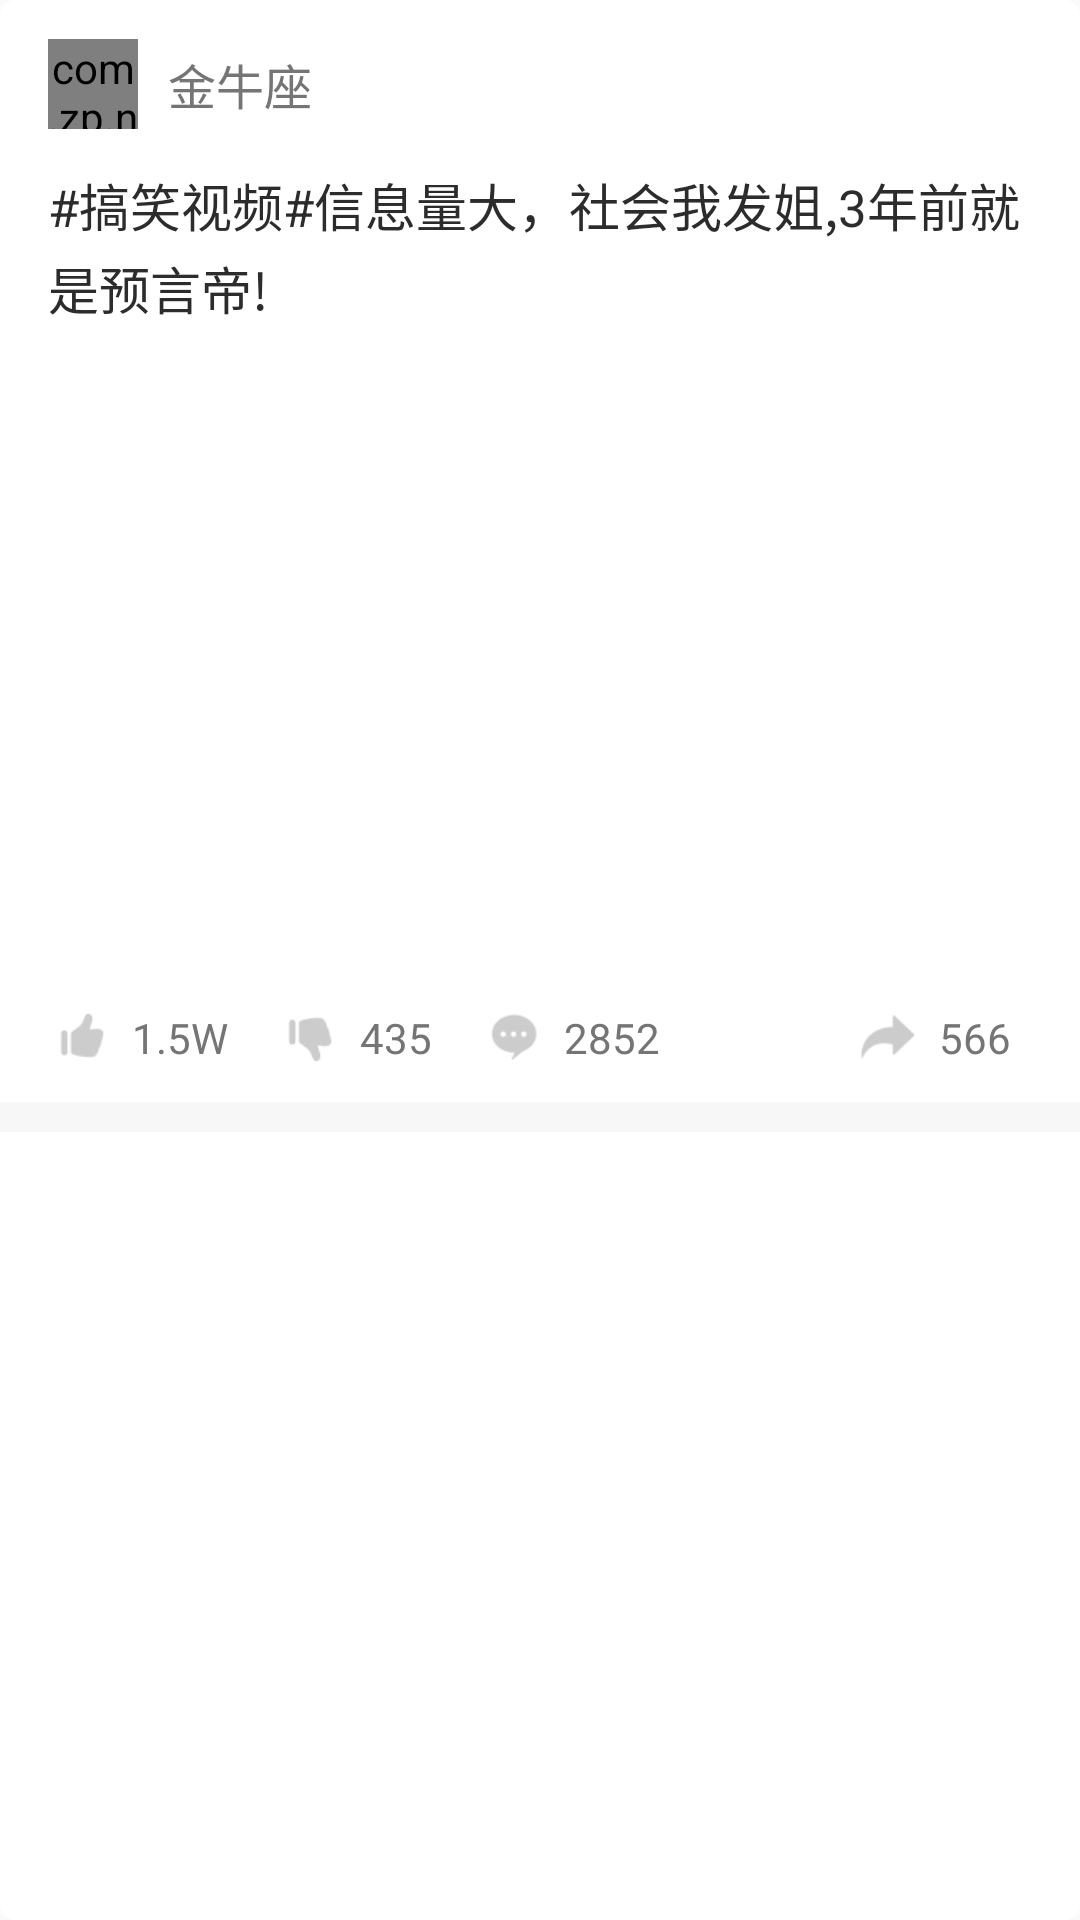

Icon bounding boxes for this 1080px×1920px phone screenshot, format (x1, y1, x2, y2):
boring: (289, 1018, 331, 1061)
discussion: (492, 1015, 536, 1060)
praise: (61, 1014, 103, 1057)
sharedseletor: (862, 1016, 914, 1057)
